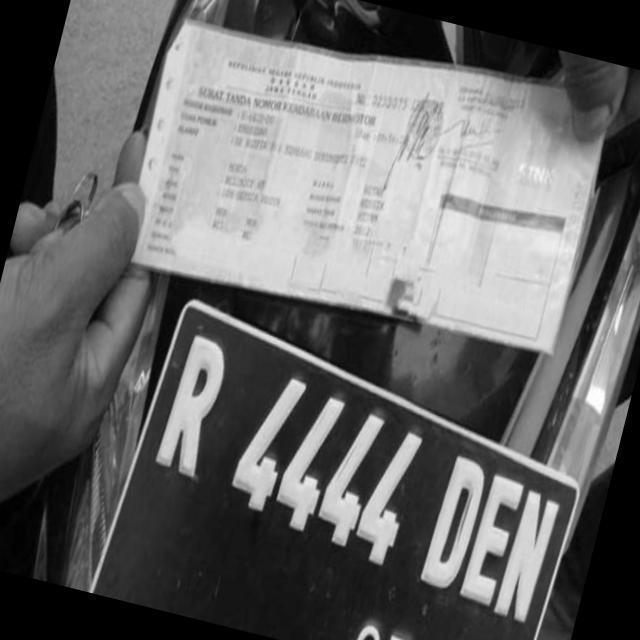4: (216, 353, 307, 536), (342, 418, 435, 578), (264, 377, 352, 540), (310, 390, 384, 563)
D: (414, 447, 491, 606)
E: (454, 470, 532, 608)
N: (490, 482, 562, 634)
R: (139, 324, 240, 508)
